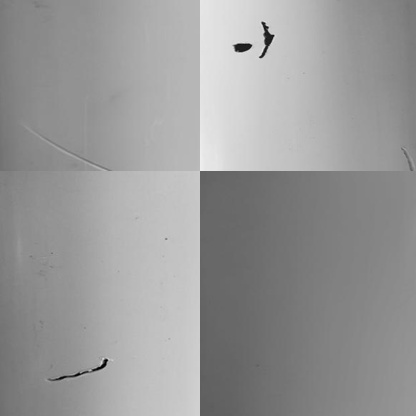fengxi: (45, 354, 109, 384)
kongdong: (258, 22, 286, 61), (231, 40, 249, 54)
sunshang: (19, 121, 109, 173)
